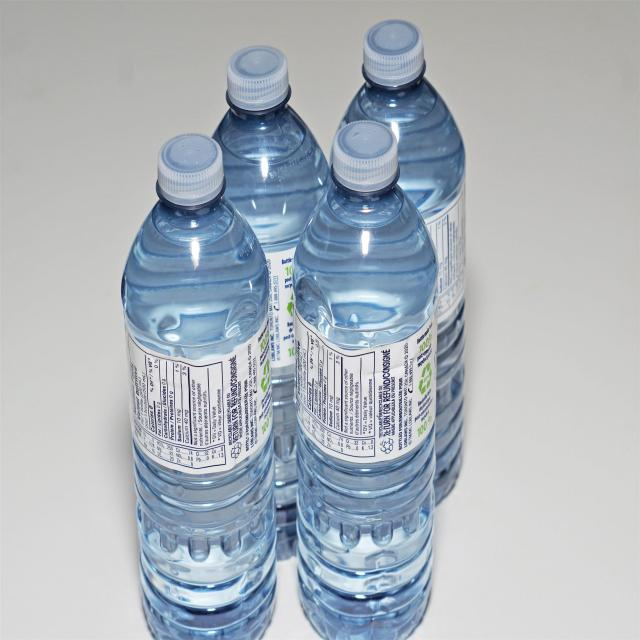plastic_bottle: (120, 132, 278, 638)
